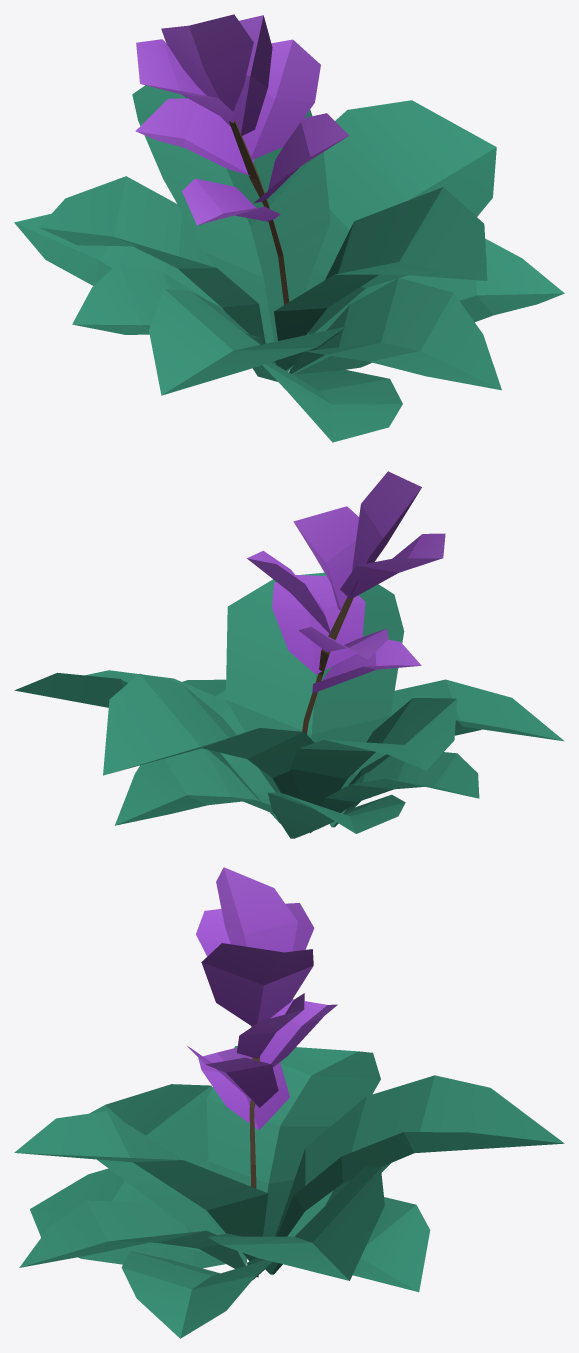
Rendered from Flower_F.fbx.
3 views of the same model, one above another, from view 1: azimuth 30°, elevation 25°; view 2: azimuth 150°, elevation 25°; view 3: azimuth 270°, elevation 25° (orthographic). The views are drawn at different scales.
Parts seen in each view (by area): view 1: Flower_F; view 2: Flower_F; view 3: Flower_F.
Boxes of the visible parts, bbox=[...] form: Flower_F: bbox=[14, 14, 564, 442]; Flower_F: bbox=[14, 471, 564, 838]; Flower_F: bbox=[14, 867, 564, 1338].
Bounding box in the file's own units: 85.87 × 69.13 × 94.59.
